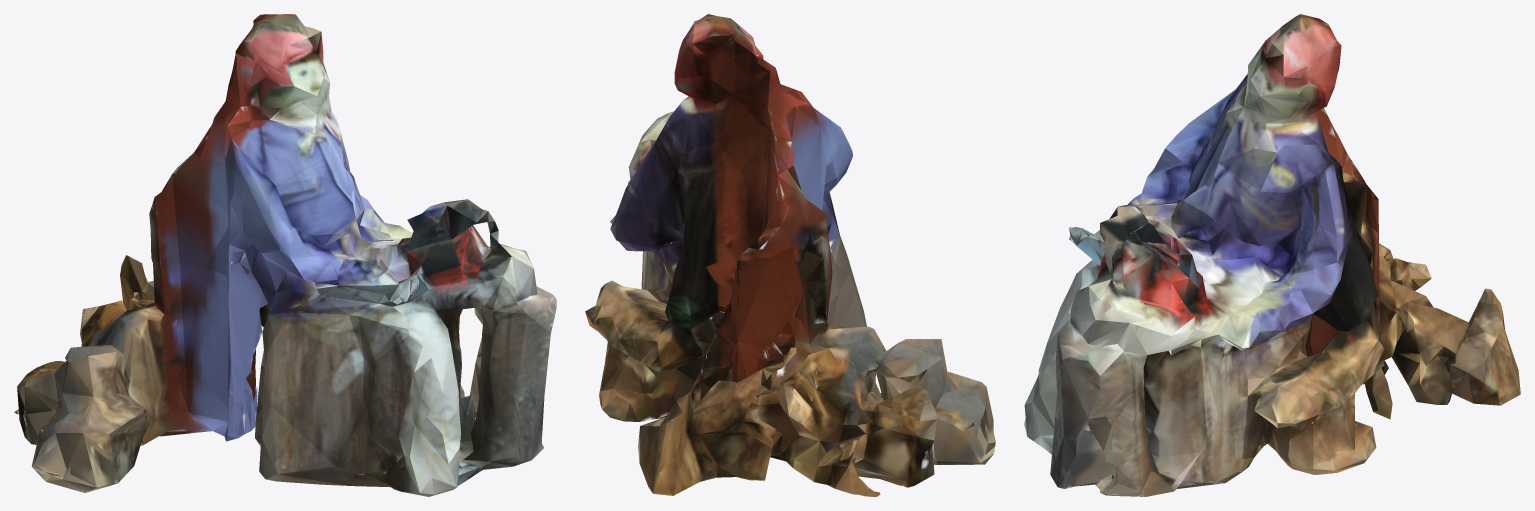
File: kakashi_02b.fbx
3 renders of one model, left to right at view 1: azimuth 30°, elevation 25°; view 2: azimuth 150°, elevation 25°; view 3: azimuth 270°, elevation 25°, orthographic. The views are drawn at different scales.
Visible parts, largest first — view 1: kakashi_02:Mesh; view 2: kakashi_02:Mesh; view 3: kakashi_02:Mesh.
Part boxes in pixels (x1,y1,x2,y2): kakashi_02:Mesh: (14,14,556,496); kakashi_02:Mesh: (585,14,995,496); kakashi_02:Mesh: (1024,14,1520,496).
Bounding box in the file's own units: 21.71 × 20.01 × 21.3.
Materials: 1 (1 with a texture image).
